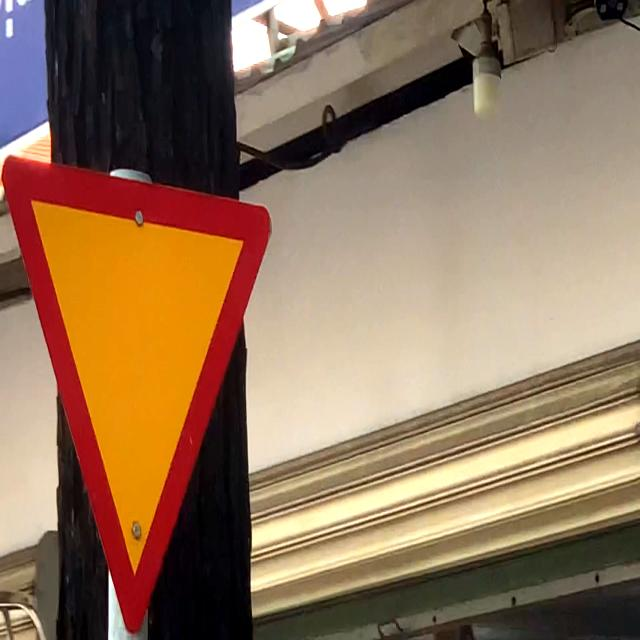W.208: (0, 140, 276, 640)
